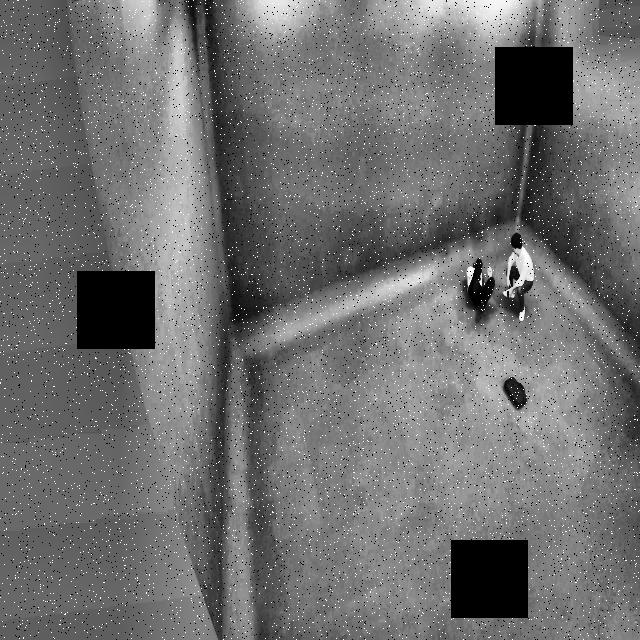assult: (461, 231, 542, 327), (462, 234, 498, 324)
